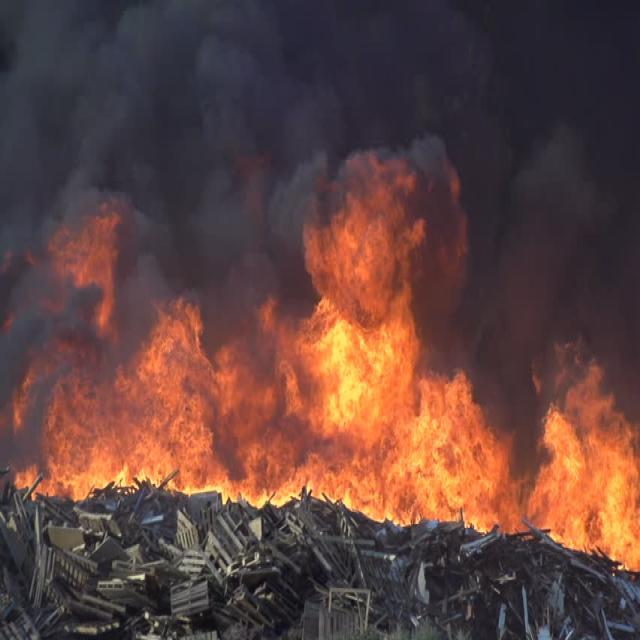Fire: (252, 144, 528, 546), (8, 288, 271, 497), (527, 334, 640, 574)
Smoke: (0, 0, 633, 353)
